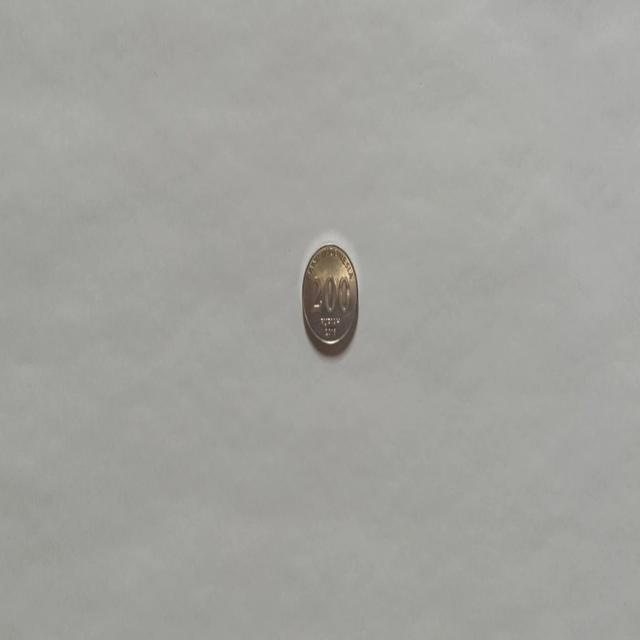dua ratus rupiah: (300, 242, 360, 352)
